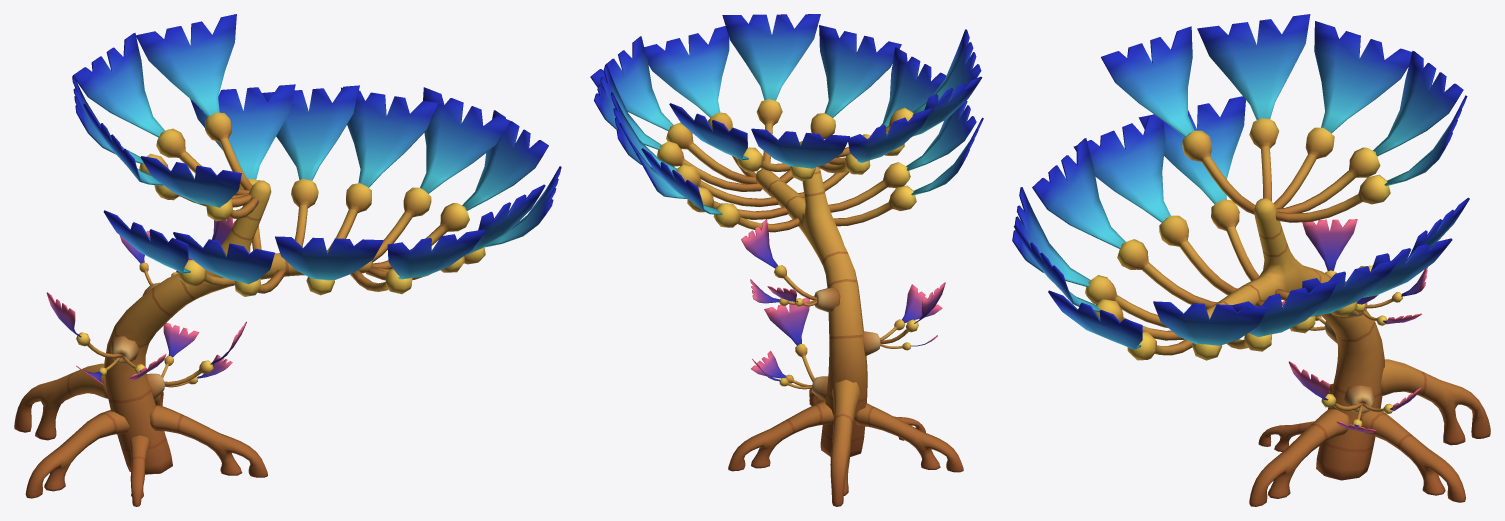
The model's file is anp_tree_4.fbx.
The picture shows the model from 3 angles, left to right: view 1: azimuth 30°, elevation 25°; view 2: azimuth 150°, elevation 25°; view 3: azimuth 270°, elevation 25°; orthographic projection. The views are drawn at different scales.
Visible parts, largest first — view 1: t4; view 2: t4; view 3: t4.
Part boxes in pixels (x1,y1,x2,y2): t4: [14, 14, 561, 506]; t4: [590, 14, 983, 506]; t4: [1012, 14, 1490, 506].
Size of the model in its own units: 522 by 443 by 460.
